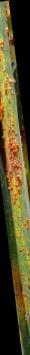Sugarcane: (3, 31, 28, 298)
